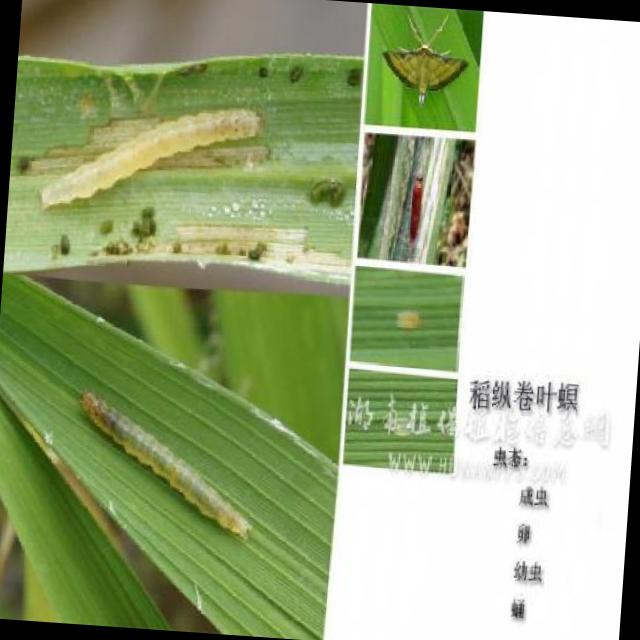leaf-folder: (61, 378, 272, 558), (35, 79, 273, 232), (402, 162, 443, 243), (382, 292, 439, 339)
